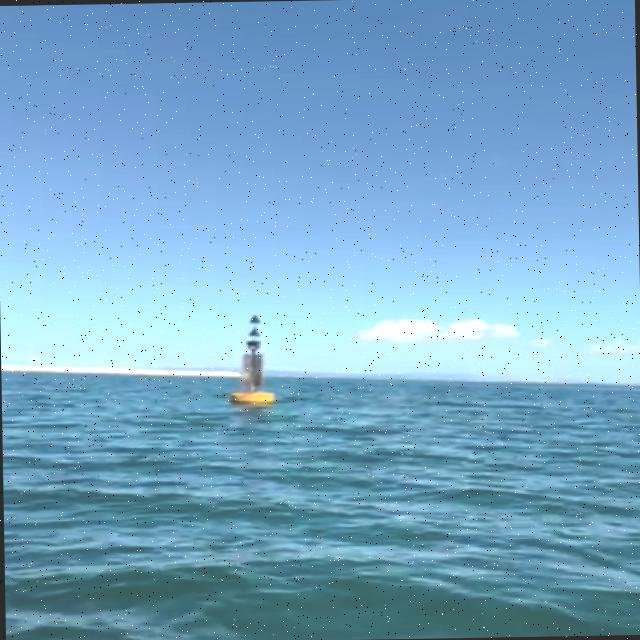marque: (231, 310, 279, 410)
